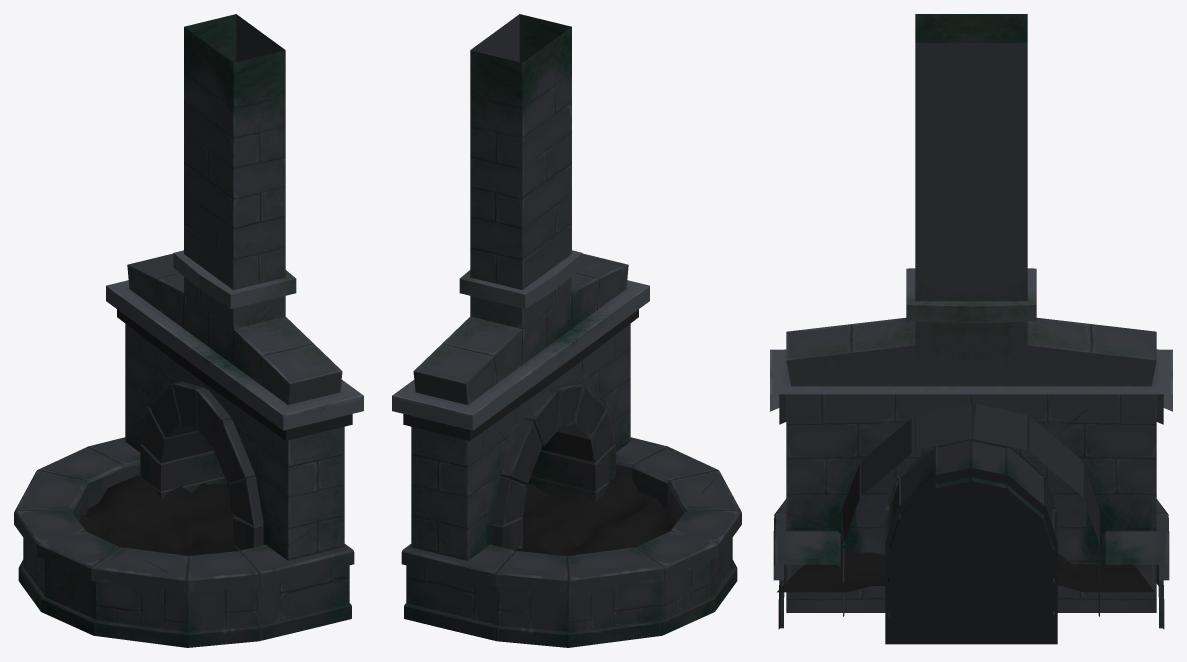
File: fireplace.obj
The picture shows the model from 3 angles, left to right: view 1: azimuth 30°, elevation 25°; view 2: azimuth 150°, elevation 25°; view 3: azimuth 270°, elevation 25°; orthographic projection. The views are drawn at different scales.
Visible parts, largest first — view 1: fireplace_Cube.038, front_part_Cube.040, arch_Cube.039, ash_Plane; view 2: fireplace_Cube.038, front_part_Cube.040, arch_Cube.039, ash_Plane; view 3: fireplace_Cube.038, arch_Cube.039, front_part_Cube.040, ash_Plane.
Boxes of the visible parts, x1=… form: fireplace_Cube.038: x1=106, y1=14, x2=363, y2=560; front_part_Cube.040: x1=14, y1=437, x2=354, y2=647; arch_Cube.039: x1=140, y1=381, x2=263, y2=551; ash_Plane: x1=79, y1=475, x2=345, y2=579; fireplace_Cube.038: x1=392, y1=14, x2=649, y2=560; front_part_Cube.040: x1=401, y1=437, x2=741, y2=647; arch_Cube.039: x1=492, y1=381, x2=615, y2=550; ash_Plane: x1=515, y1=474, x2=676, y2=555; fireplace_Cube.038: x1=770, y1=14, x2=1172, y2=644; arch_Cube.039: x1=842, y1=403, x2=1099, y2=616; front_part_Cube.040: x1=773, y1=499, x2=1169, y2=629; ash_Plane: x1=777, y1=552, x2=1154, y2=592.
Bounding box in the file's own units: 1.65 × 3.5 × 2.13.
Materials: 1 (1 with a texture image).
